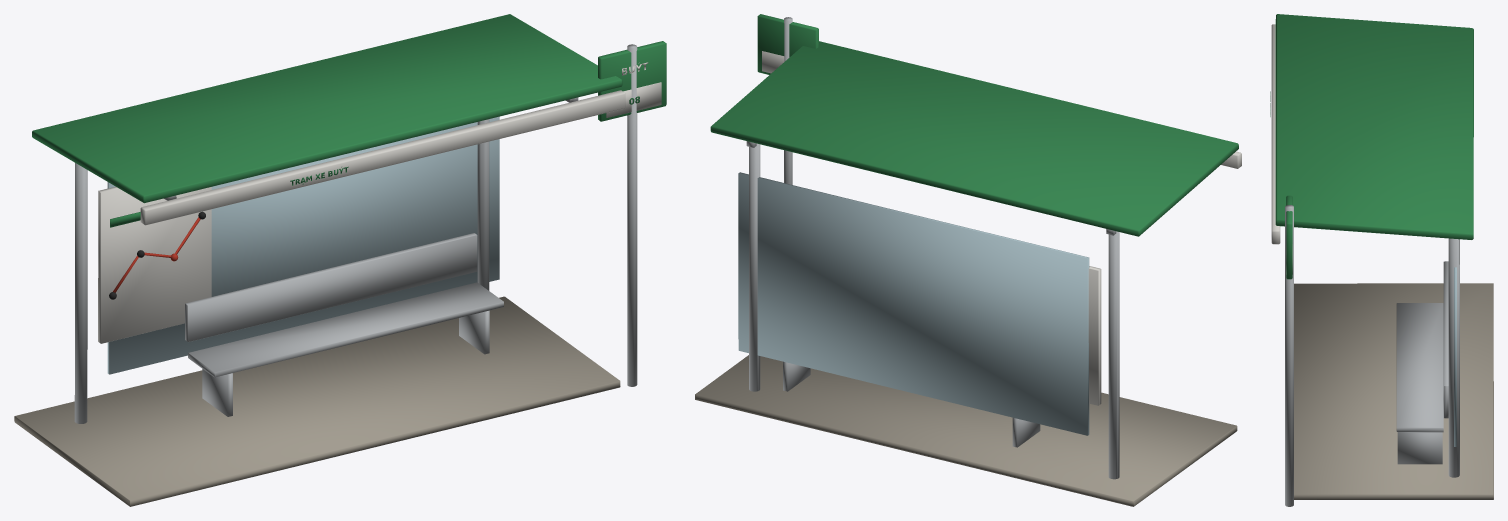
File: tram_xe_buyt.glb
The picture shows the model from 3 angles, left to right: view 1: azimuth 30°, elevation 25°; view 2: azimuth 150°, elevation 25°; view 3: azimuth 270°, elevation 25°; orthographic projection. The views are drawn at different scales.
Parts seen in each view (by area): view 1: tram_xe_buyt; view 2: tram_xe_buyt; view 3: tram_xe_buyt.
Part boxes in pixels (<box>): tram_xe_buyt: <box>14,14,666,506</box>; tram_xe_buyt: <box>695,14,1241,506</box>; tram_xe_buyt: <box>1270,14,1493,506</box>.
Bounding box in the file's own units: 4.8 × 2.9 × 1.97.
